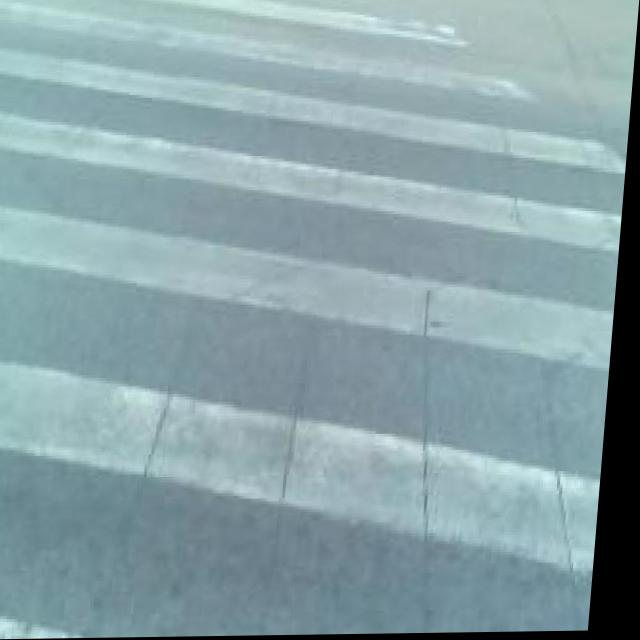zebra: (0, 0, 560, 544)
